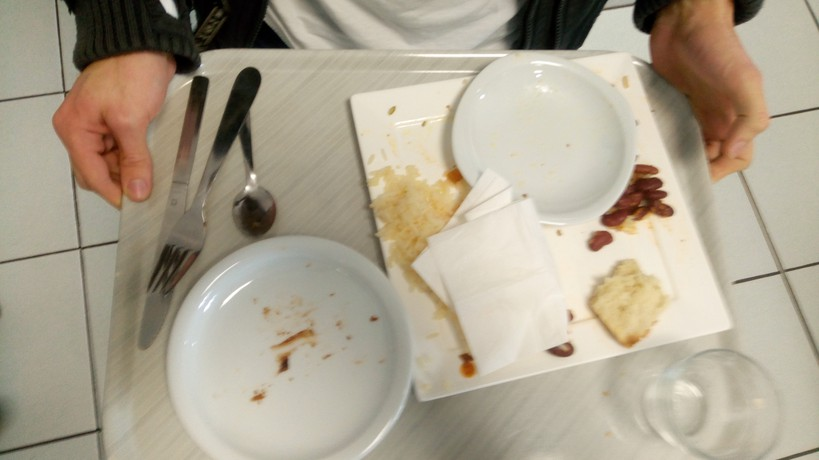cup: (657, 339, 793, 460)
cutlery: (121, 62, 283, 357)
orga: (365, 162, 445, 250), (592, 257, 660, 350), (614, 161, 671, 244)
trash: (430, 183, 568, 363)
